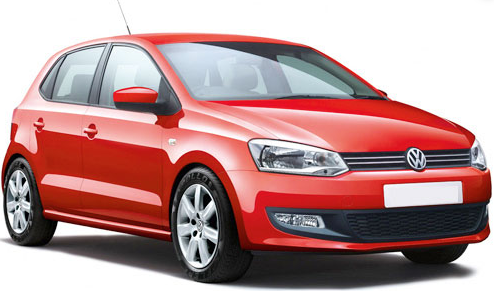car: (1, 1, 492, 288)
